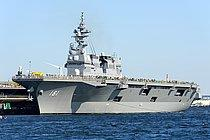MIL_Ship: (11, 9, 200, 114)
